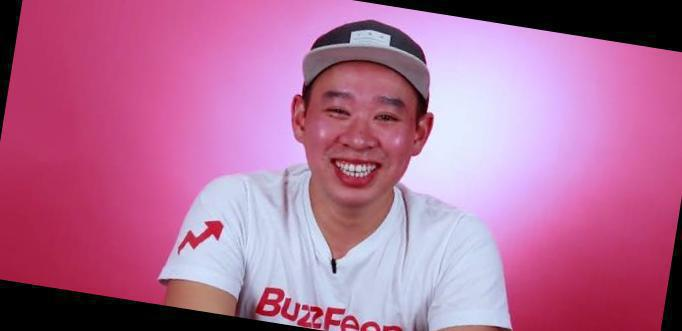Drunk: (317, 68, 406, 203)
